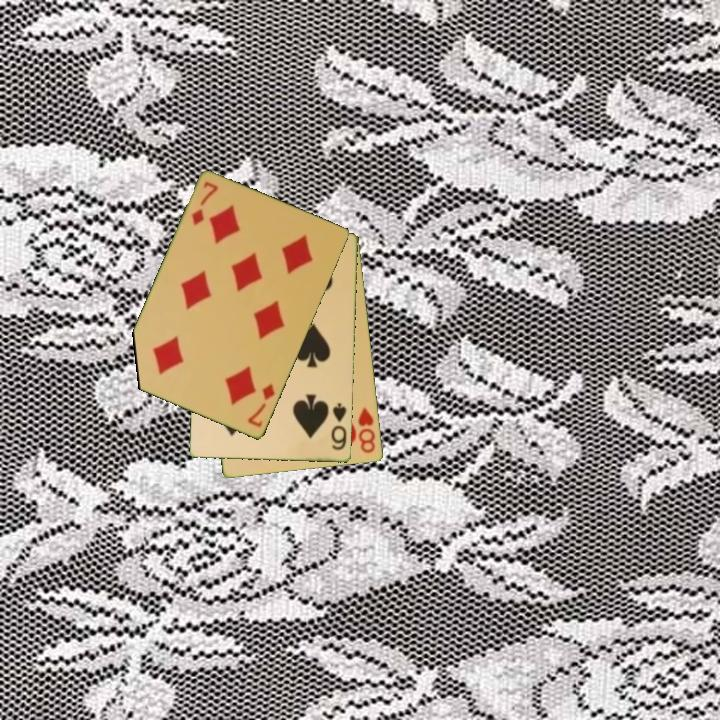6s: (328, 400, 350, 453)
7d: (188, 178, 221, 229), (244, 381, 278, 430)
8h: (355, 404, 378, 456)
